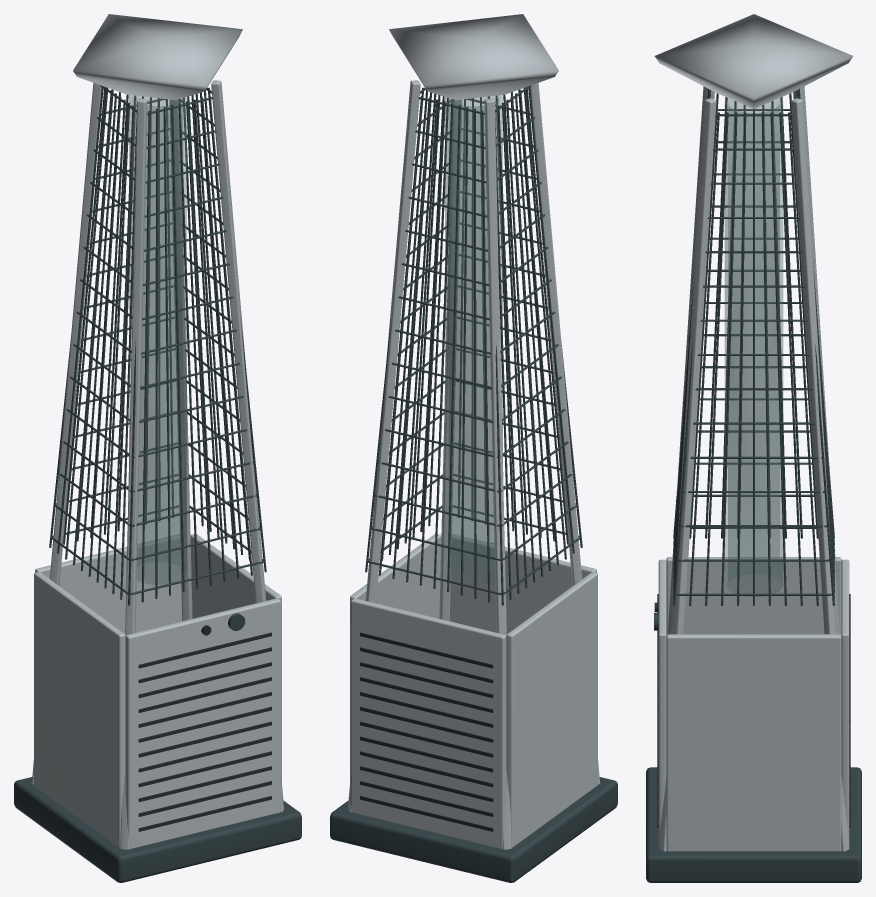
The model's file is outdoor-pyramid-heater.glb.
The picture shows the model from 3 angles, left to right: view 1: azimuth 30°, elevation 25°; view 2: azimuth 150°, elevation 25°; view 3: azimuth 270°, elevation 25°; orthographic projection.
Parts seen in each view (by area): view 1: catalog_surface_RealismUV, catalog_surface_UVMap; view 2: catalog_surface_RealismUV, catalog_surface_UVMap; view 3: catalog_surface_RealismUV, catalog_surface_UVMap.
Boxes of the visible parts, box(x1,y1,x2,y2) form: catalog_surface_RealismUV: box(14, 14, 301, 882); catalog_surface_UVMap: box(129, 95, 271, 831); catalog_surface_RealismUV: box(330, 14, 617, 882); catalog_surface_UVMap: box(360, 95, 502, 831); catalog_surface_RealismUV: box(646, 14, 861, 882); catalog_surface_UVMap: box(654, 98, 850, 827).
Size of the model in its own units: 0.56 by 2.27 by 0.56.
